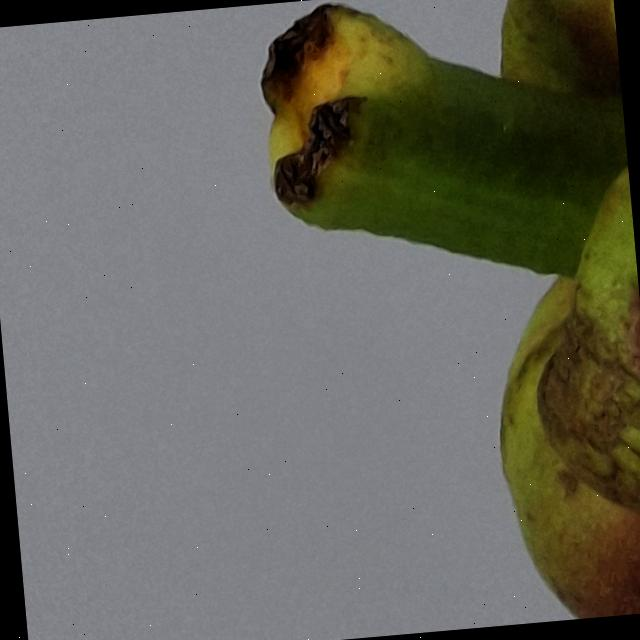mangosteen: (177, 0, 640, 640)
